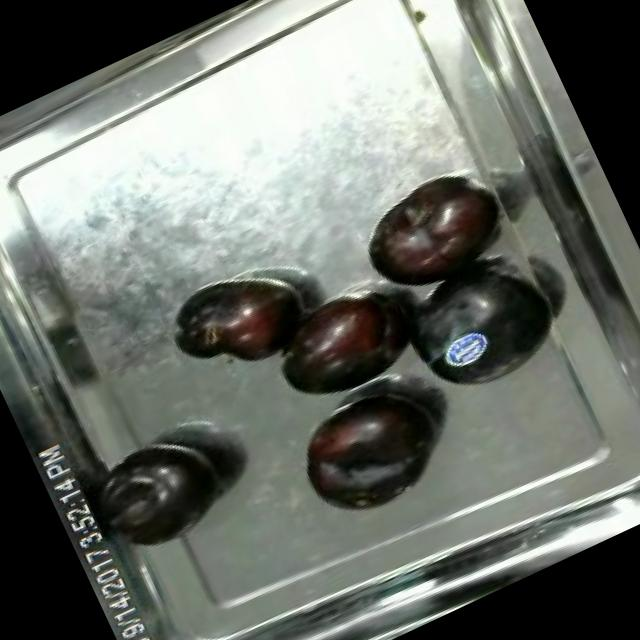Fruit: (380, 236, 574, 419), (340, 154, 520, 314), (280, 370, 458, 530), (68, 416, 246, 576), (252, 264, 430, 420), (157, 252, 322, 398)
